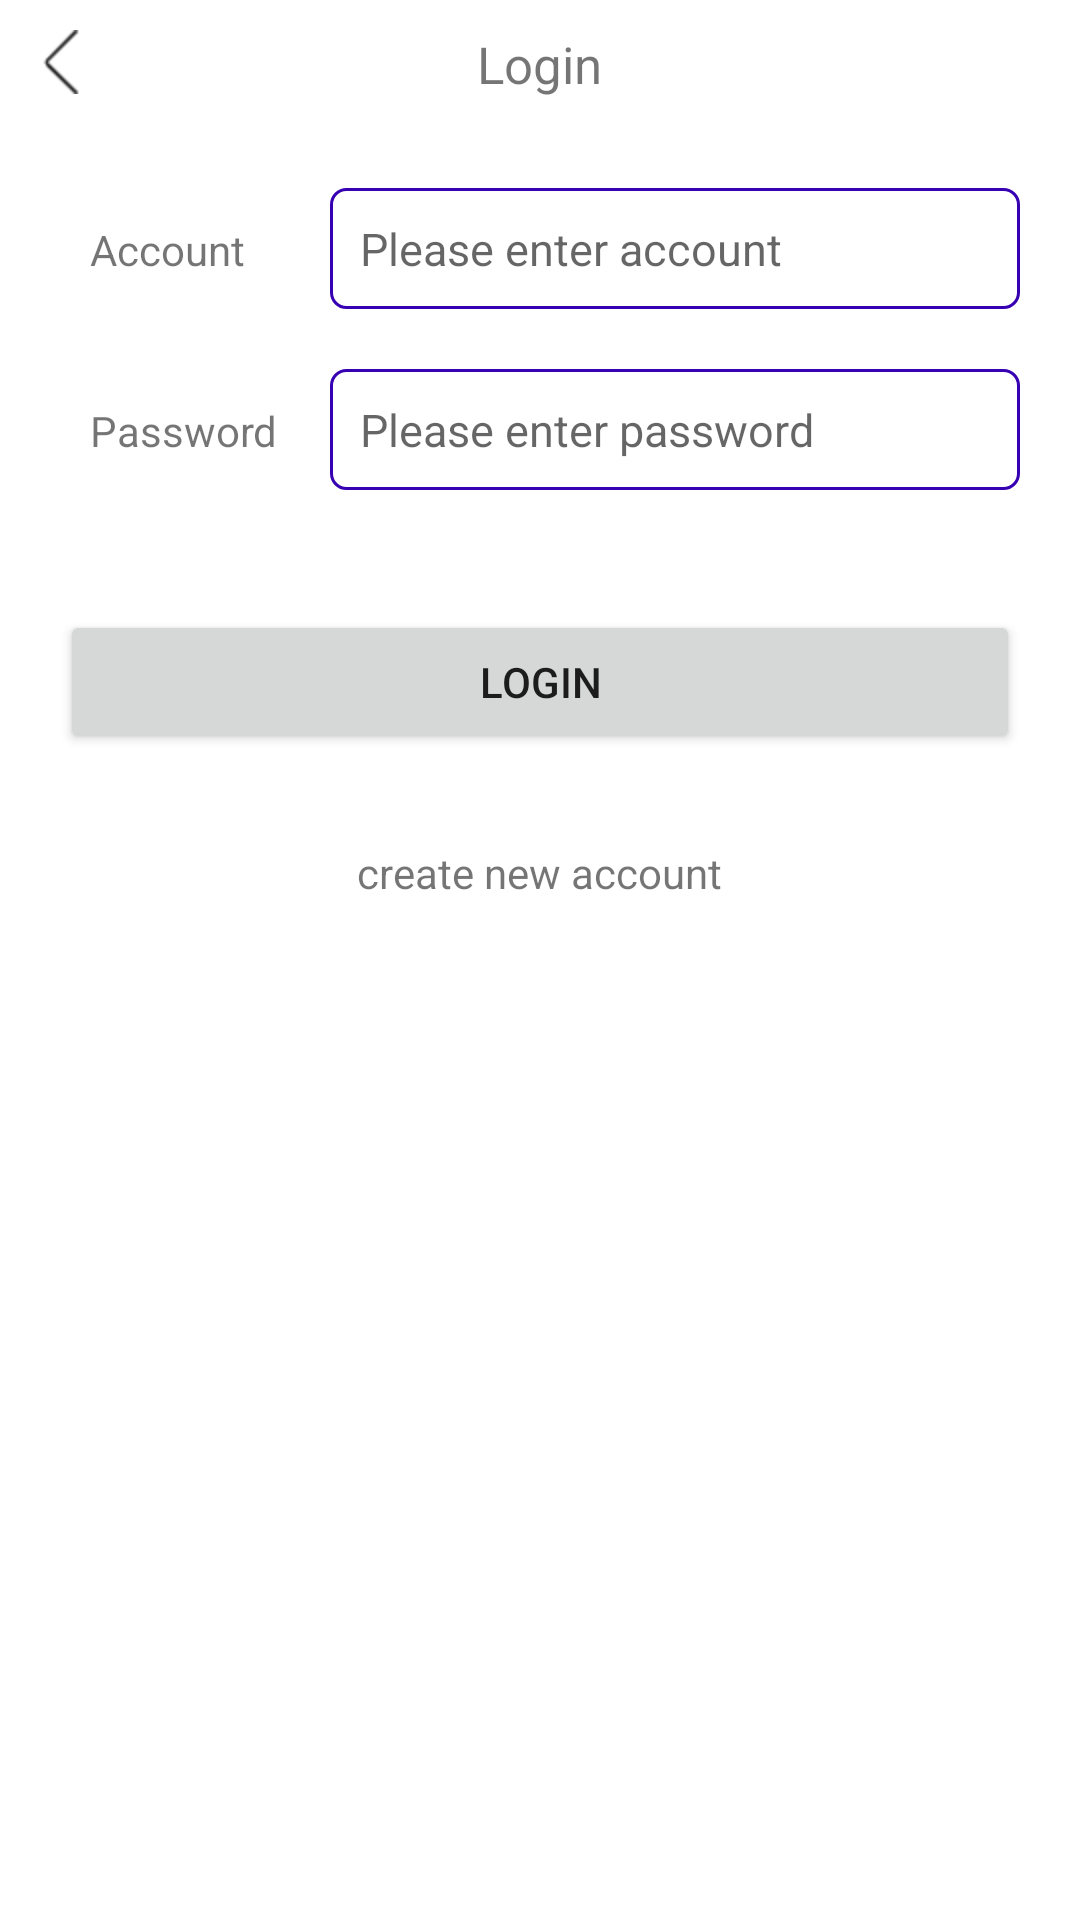

Icon bounding boxes for this 1080px×1920px phone screenshot, format (left=x1, top=y1, right=x2, bottom=y2):
back: (left=44, top=30, right=79, bottom=94)
